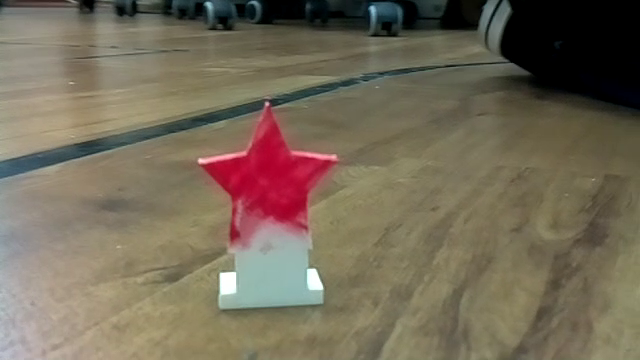star: (181, 95, 358, 328)
